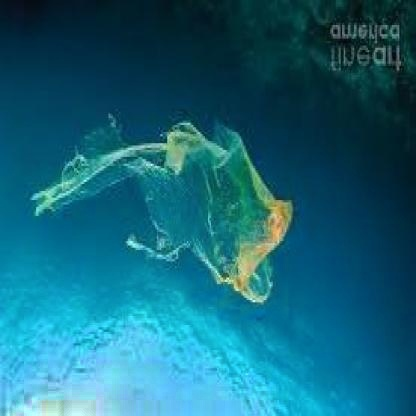pbag: (24, 107, 299, 314)
